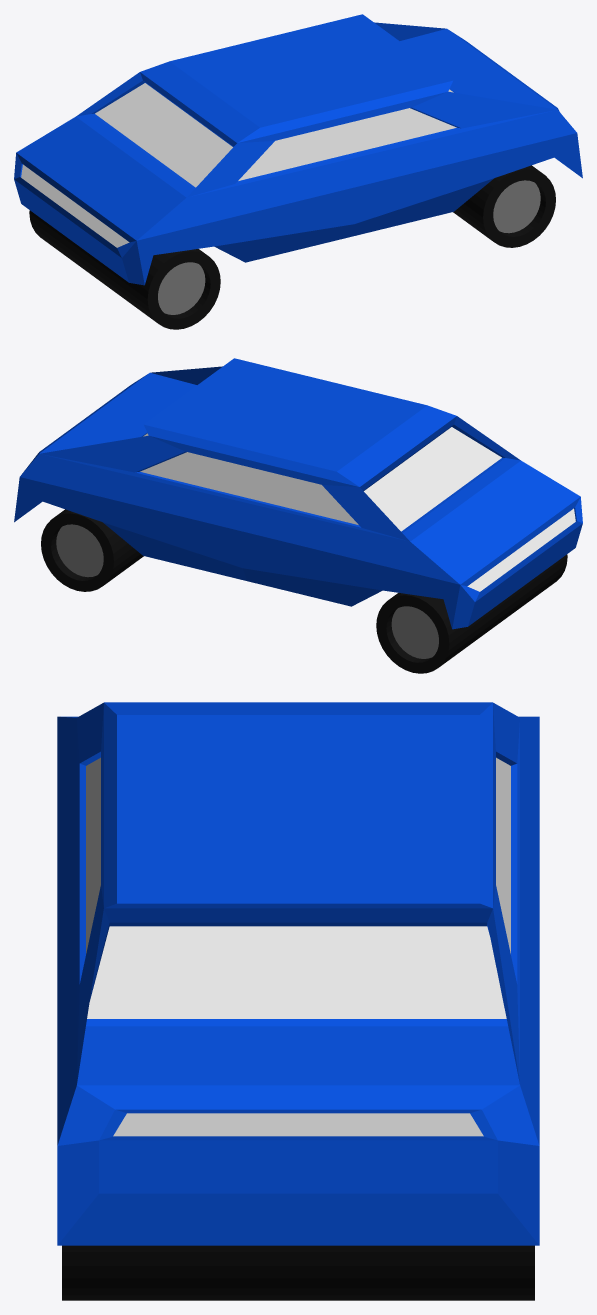
Rendered from Car.fbx.
3 renders of one model, top to bottom at view 1: azimuth 30°, elevation 25°; view 2: azimuth 150°, elevation 25°; view 3: azimuth 270°, elevation 25°, orthographic. The views are drawn at different scales.
Visible parts, largest first — view 1: Cube, Cube.001, Cylinder.001, Cylinder.002, Cube.002; view 2: Cube, Cube.001, Cylinder.001, Cylinder.002, Cube.002; view 3: Cube, Cube.001, Cylinder.001, Cube.003.
Part boxes in pixels (x1=…): Cube: x1=14, y1=14, x2=582, y2=285; Cube.001: x1=95, y1=83, x2=456, y2=187; Cylinder.001: x1=29, y1=165, x2=555, y2=329; Cylinder.002: x1=158, y1=180, x2=540, y2=314; Cube.002: x1=21, y1=164, x2=129, y2=247; Cube: x1=14, y1=358, x2=582, y2=629; Cube.001: x1=140, y1=427, x2=501, y2=531; Cylinder.001: x1=41, y1=509, x2=567, y2=673; Cylinder.002: x1=56, y1=524, x2=438, y2=658; Cube.002: x1=467, y1=508, x2=575, y2=591; Cube: x1=57, y1=702, x2=539, y2=1245; Cube.001: x1=86, y1=757, x2=510, y2=1018; Cylinder.001: x1=62, y1=1245, x2=534, y2=1300; Cube.003: x1=113, y1=1113, x2=483, y2=1136.
Size of the model in its own units: 15.63 by 5.55 by 7.17.
